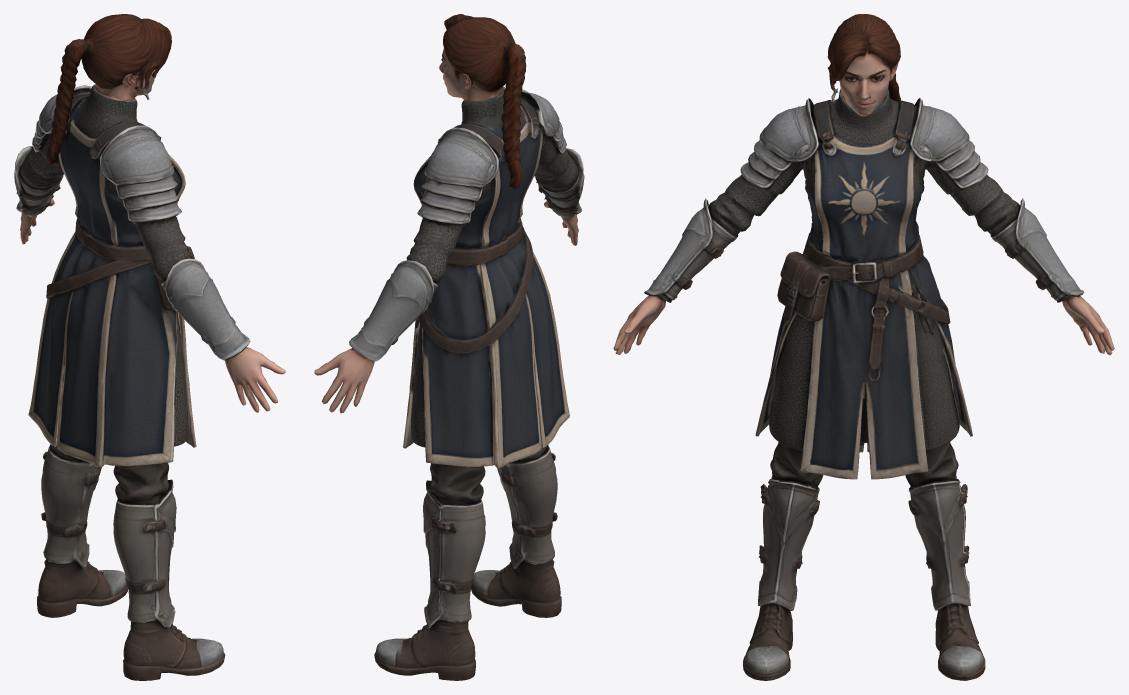
File: aydor_1_tripo.glb
The picture shows the model from 3 angles, left to right: view 1: azimuth 30°, elevation 25°; view 2: azimuth 150°, elevation 25°; view 3: azimuth 270°, elevation 25°; orthographic projection. The views are drawn at different scales.
Visible parts, largest first — view 1: tripo_node_df8bd027-0c52-4147-a1d2-123372b60a99; view 2: tripo_node_df8bd027-0c52-4147-a1d2-123372b60a99; view 3: tripo_node_df8bd027-0c52-4147-a1d2-123372b60a99.
Boxes of the visible parts, x1=… form: tripo_node_df8bd027-0c52-4147-a1d2-123372b60a99: x1=14, y1=14, x2=285, y2=680; tripo_node_df8bd027-0c52-4147-a1d2-123372b60a99: x1=314, y1=14, x2=584, y2=680; tripo_node_df8bd027-0c52-4147-a1d2-123372b60a99: x1=613, y1=14, x2=1114, y2=680.
Bounding box in the file's own units: 0.3568 × 1.75 × 1.25.
Materials: 1 (1 with a texture image).
